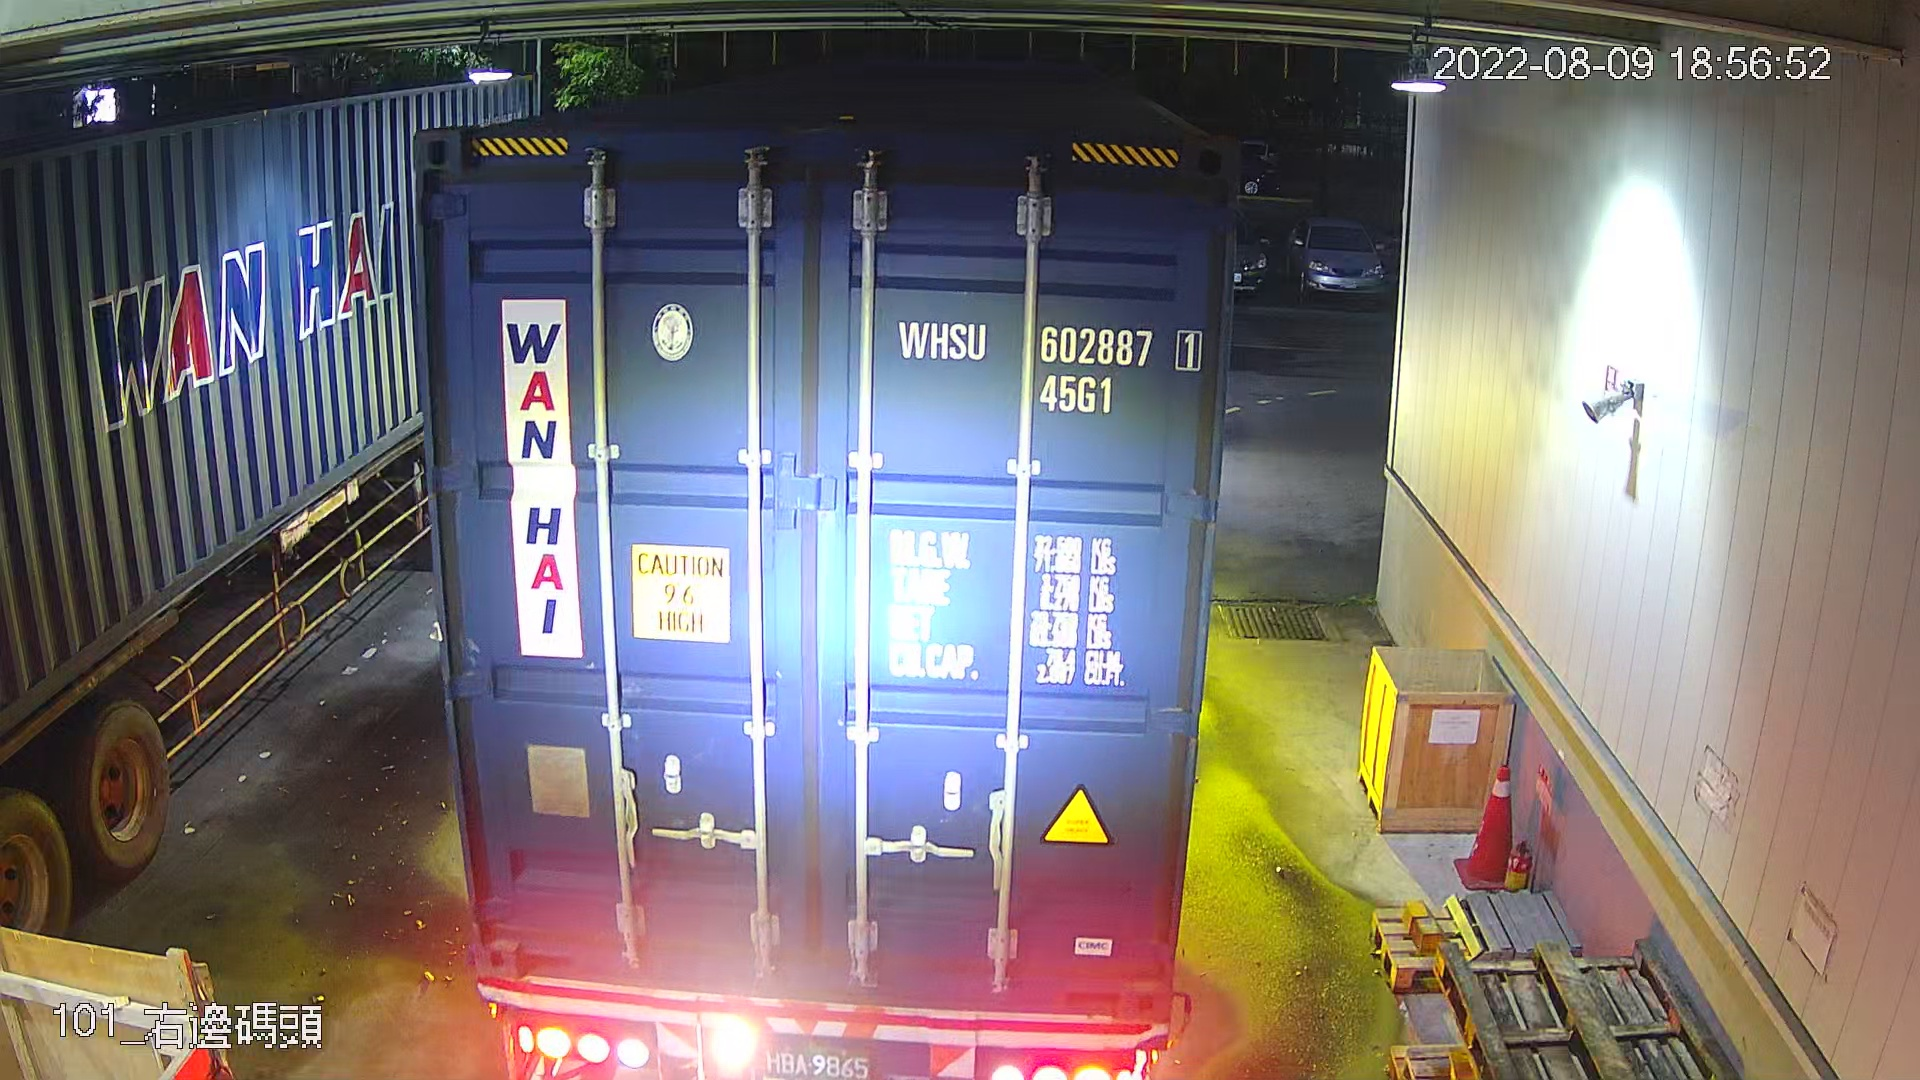container: (887, 309, 1213, 426)
